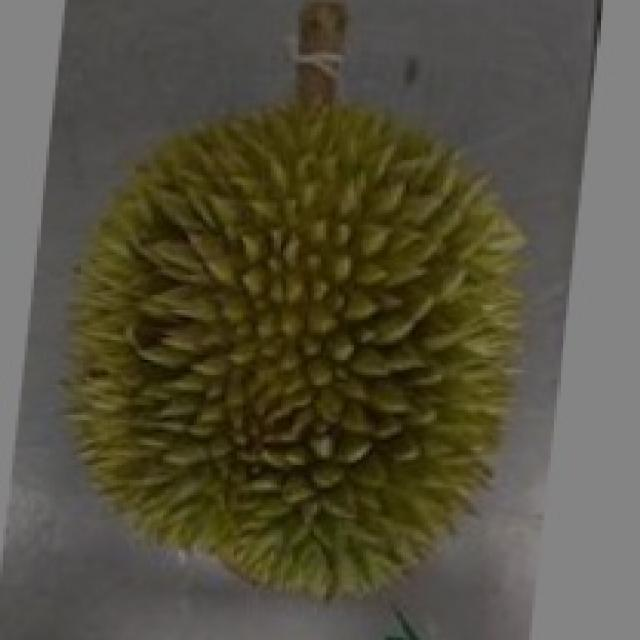fruit: (188, 250, 606, 640), (12, 230, 366, 632)
